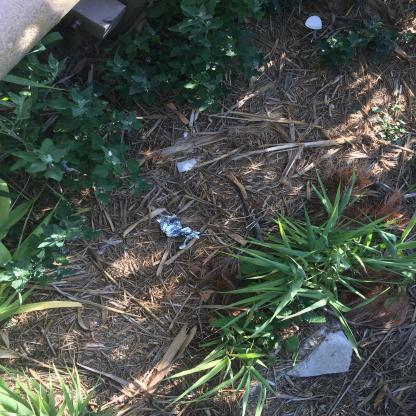trash: (266, 308, 370, 385), (154, 212, 203, 250), (172, 158, 201, 173)
